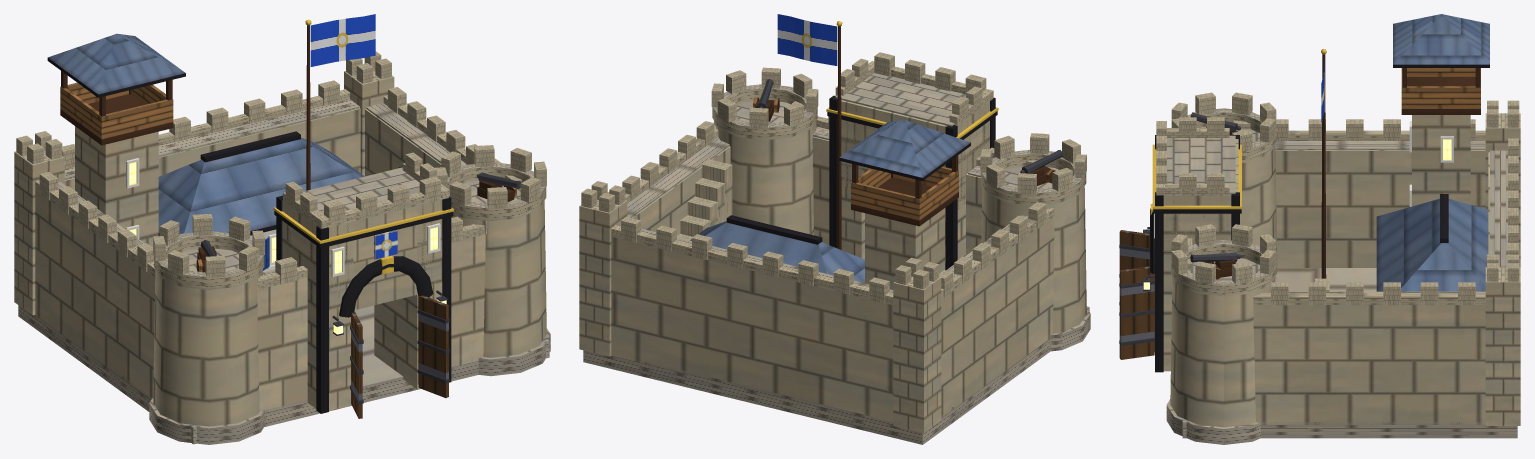
The model's file is company_fort.glb.
3 views of the same model, side by side, from view 1: azimuth 30°, elevation 25°; view 2: azimuth 150°, elevation 25°; view 3: azimuth 270°, elevation 25° (orthographic). The views are drawn at different scales.
Visible parts, largest first — view 1: company_fort; view 2: company_fort; view 3: company_fort.
Part boxes in pixels (x1=…): company_fort: x1=14, y1=14, x2=550, y2=444; company_fort: x1=579, y1=14, x2=1090, y2=444; company_fort: x1=1119, y1=14, x2=1520, y2=444.
Bounding box in the file's own units: 14.5 × 11.68 × 13.66.
Materials: 5 (5 with a texture image).
